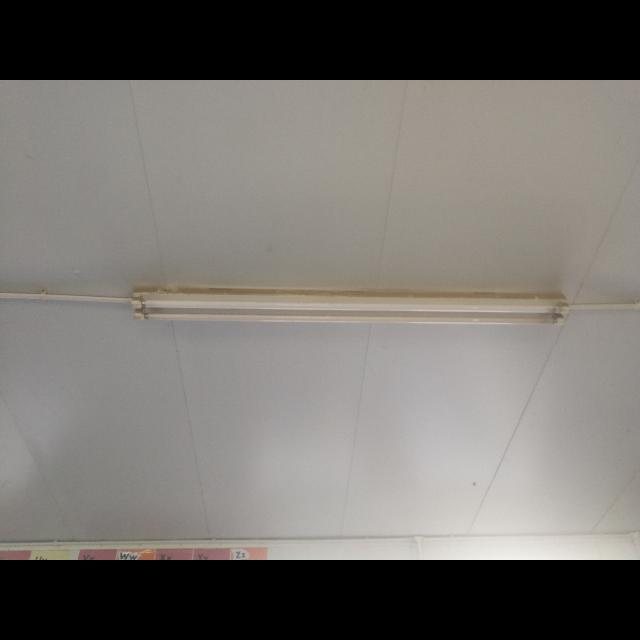Straight-Tube-Fluorescent-Lamp: (119, 270, 589, 352)
